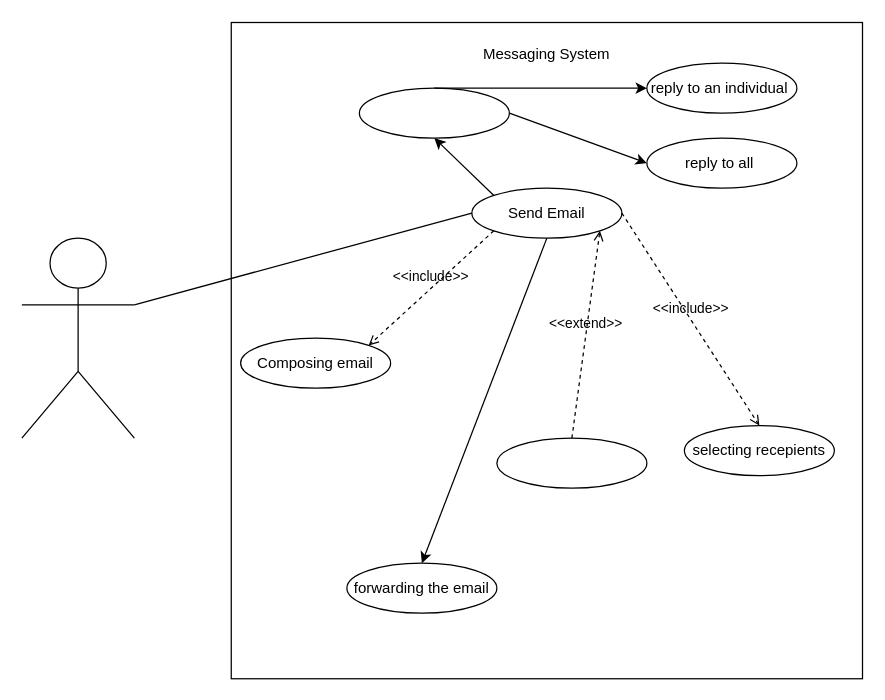
This 885x700 diagram has some shape labels left out. Each missing label, with the box of its shape:
attaching files: (496, 437, 647, 488)
replying to an email: (358, 87, 509, 138)
User: (21, 237, 134, 438)
